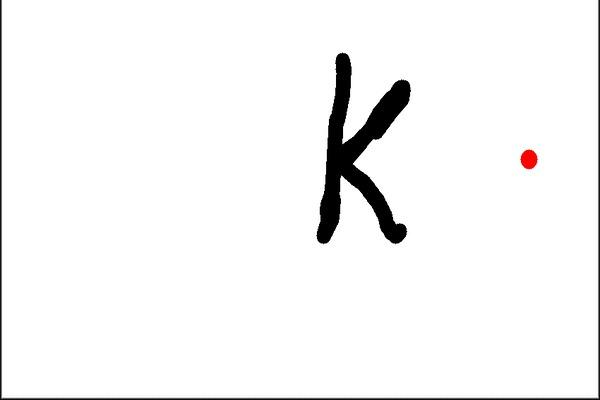K: (309, 45, 417, 258)
